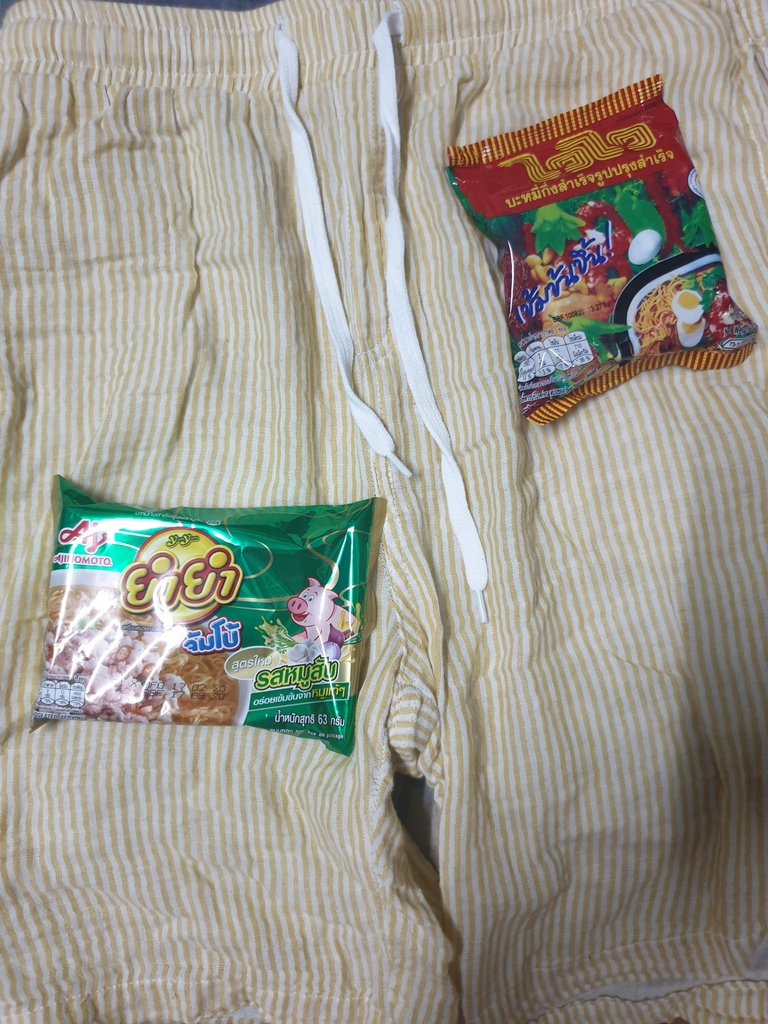waiwai: (456, 107, 760, 385)
yumyum: (31, 481, 370, 753)
